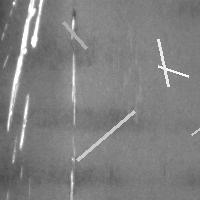scratches: (5, 1, 43, 147), (72, 106, 139, 165), (64, 13, 81, 199), (58, 17, 91, 53), (153, 34, 173, 91), (187, 72, 200, 139), (153, 61, 193, 81)
